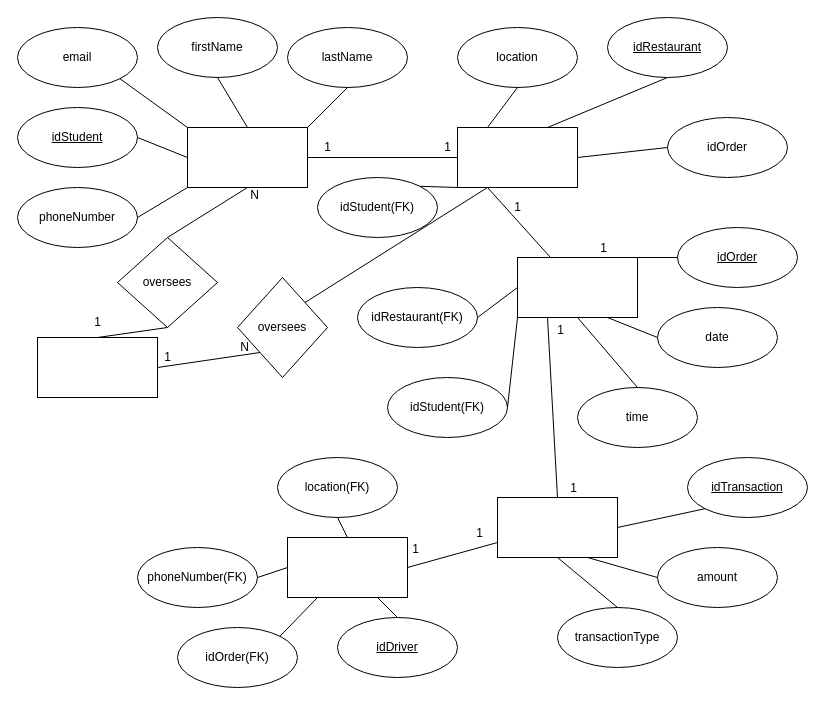
The diagram is 825 pixels wide and 705 high, and some of its shapes have lost their labels. Each missing label, with the centre of its shape:
"Driver" belongs at [347,567].
"Order" belongs at [577,287].
"restaurant" belongs at [517,157].
"SchoolStaff" belongs at [97,367].
"Students" belongs at [247,157].
"Transaction" belongs at [557,527].
